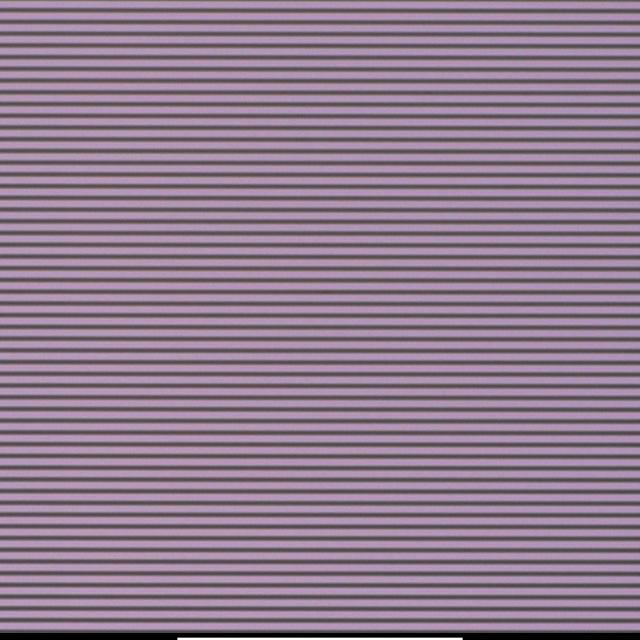03_intrusion: (332, 306, 338, 312)
